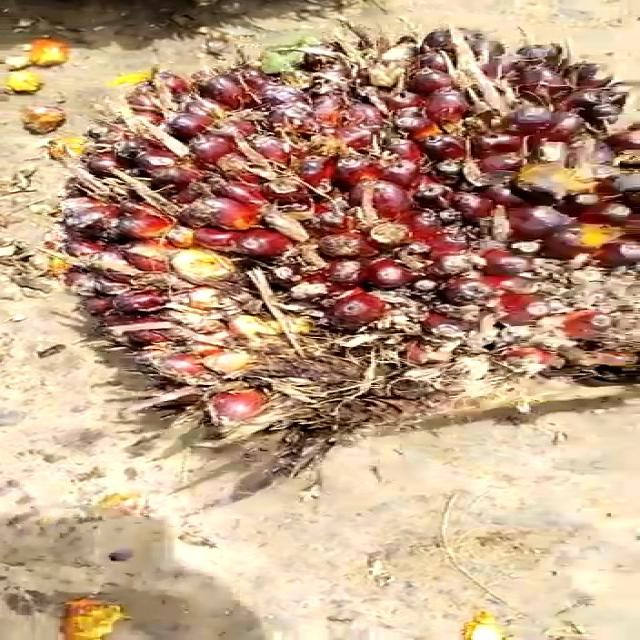palm oil: (48, 31, 640, 435)
